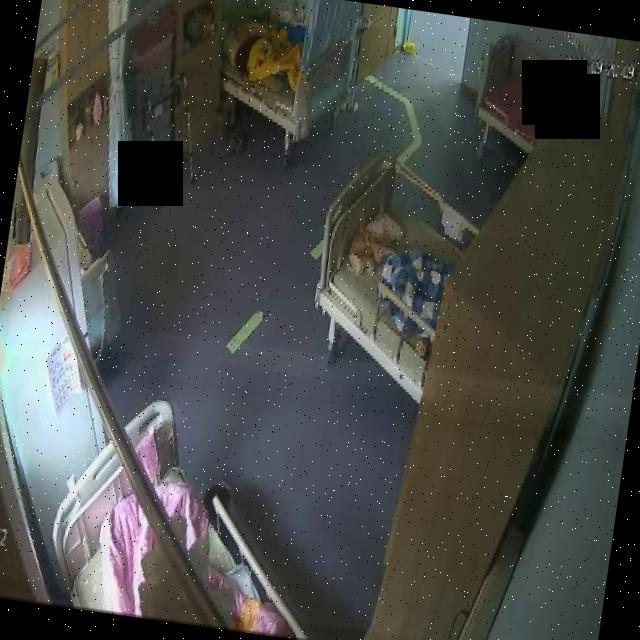bed: (44, 388, 304, 636), (302, 146, 468, 404), (213, 2, 356, 144), (461, 30, 565, 146)
